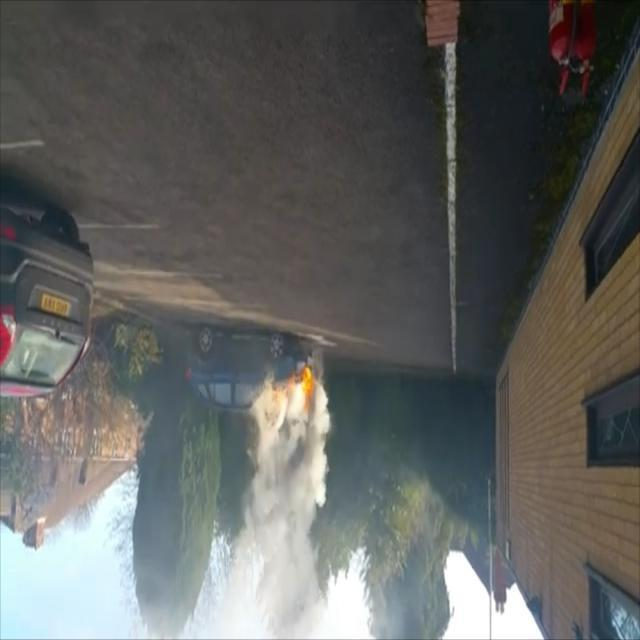fire: (260, 363, 322, 432)
